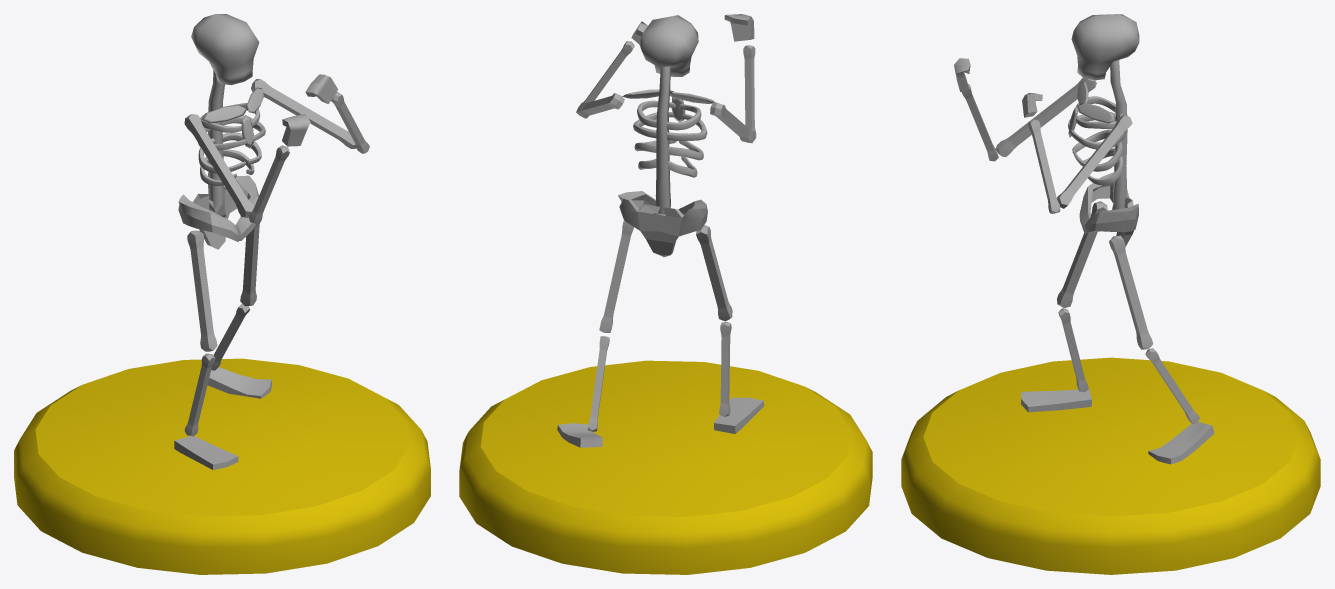
File: skeleton-hobble.fbx
3 renders of one model, left to right at view 1: azimuth 30°, elevation 25°; view 2: azimuth 150°, elevation 25°; view 3: azimuth 270°, elevation 25°, orthographic.
Parts seen in each view (by area): view 1: pedestal_geo, skeleton_geo; view 2: pedestal_geo, skeleton_geo; view 3: pedestal_geo, skeleton_geo.
Boxes of the visible parts, <box> form: pedestal_geo: <box>14,358,430,574</box>; skeleton_geo: <box>174,14,369,469</box>; pedestal_geo: <box>459,360,872,574</box>; skeleton_geo: <box>557,14,764,447</box>; pedestal_geo: <box>901,357,1320,574</box>; skeleton_geo: <box>954,14,1214,464</box>.
Size of the model in its own units: 7.14 by 8.85 by 7.14.
